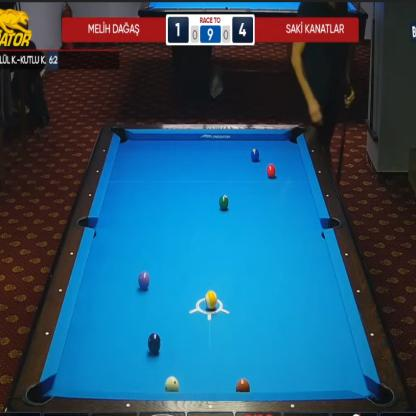Ball: (148, 332, 162, 353), (164, 376, 180, 392), (138, 271, 150, 290), (205, 290, 217, 309), (235, 378, 250, 393), (219, 195, 229, 211), (266, 164, 276, 178), (250, 148, 259, 162)
